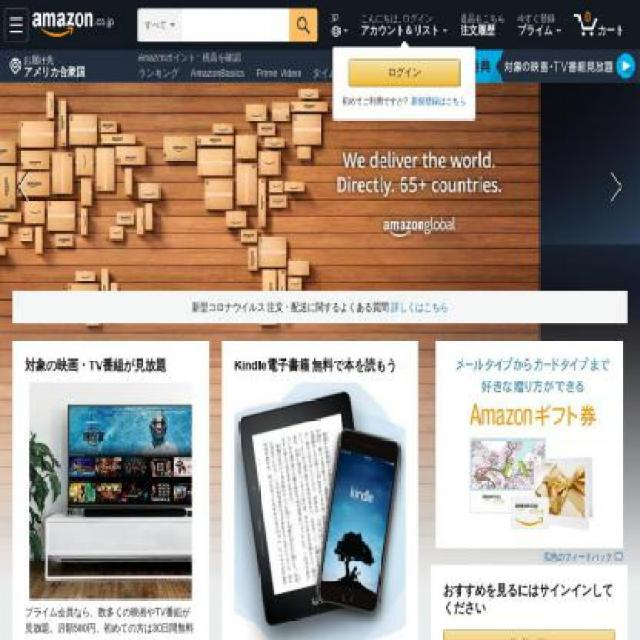button: (233, 382, 407, 640), (25, 382, 197, 600), (0, 81, 51, 292), (590, 82, 639, 292), (390, 50, 639, 84), (32, 4, 134, 45), (355, 5, 453, 47), (5, 8, 121, 38), (349, 59, 460, 87), (567, 5, 638, 47), (7, 51, 91, 83), (454, 5, 511, 47), (511, 5, 567, 47), (443, 630, 617, 639), (319, 5, 355, 47), (133, 132, 216, 148), (133, 164, 205, 182), (234, 98, 309, 115), (444, 632, 616, 639), (185, 64, 250, 82), (304, 164, 368, 182), (262, 132, 330, 148), (308, 64, 366, 82), (251, 64, 306, 82), (543, 551, 623, 563), (251, 164, 303, 182), (133, 64, 184, 82), (4, 8, 28, 41), (207, 164, 250, 182), (153, 98, 196, 115), (218, 132, 260, 148), (198, 98, 232, 115), (133, 98, 152, 115)
field: (182, 8, 289, 41), (288, 8, 318, 41)
